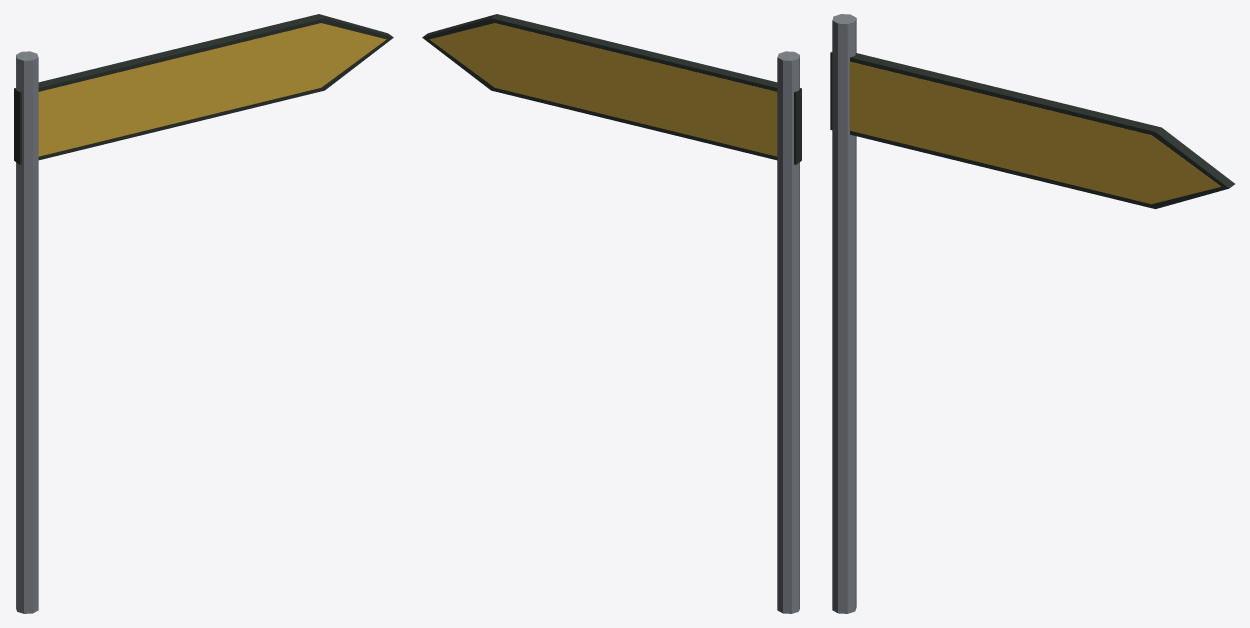
File: junction_sign.glb
The picture shows the model from 3 angles, left to right: view 1: azimuth 30°, elevation 25°; view 2: azimuth 150°, elevation 25°; view 3: azimuth 330°, elevation 25°; orthographic projection. The views are drawn at different scales.
Visible parts, largest first — view 1: junction_sign; view 2: junction_sign; view 3: junction_sign.
Boxes of the visible parts, <box> form: junction_sign: <box>14,14,393,613</box>; junction_sign: <box>422,14,801,613</box>; junction_sign: <box>830,14,1234,613</box>.
Bounding box in the file's own units: 1.84 × 2.6 × 0.1.
